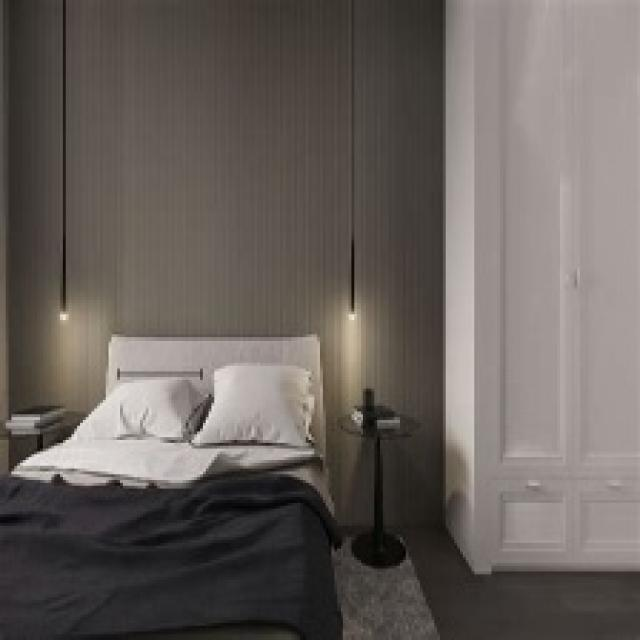Bed: (0, 332, 343, 637)
